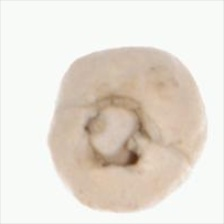L3: (83, 97, 156, 167)
L4: (48, 46, 209, 215)
